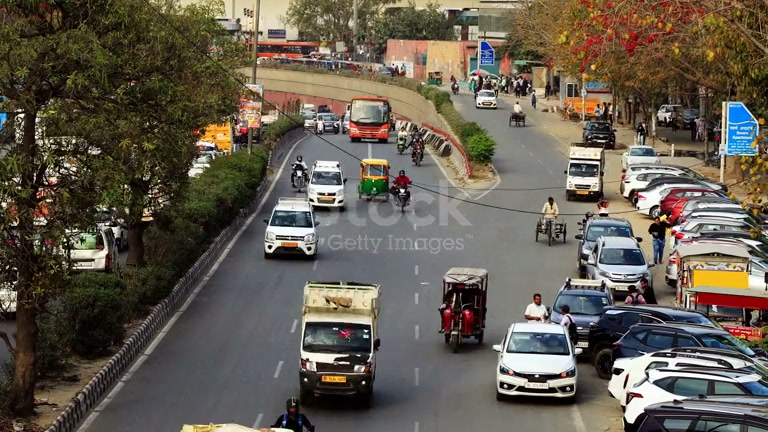car: (601, 326, 767, 395), (586, 305, 735, 378), (614, 363, 768, 429), (610, 357, 768, 411), (599, 323, 757, 377), (492, 321, 579, 403), (630, 399, 767, 430), (550, 284, 616, 346), (575, 218, 638, 277), (263, 197, 320, 259), (584, 236, 651, 288), (633, 181, 727, 215), (621, 166, 693, 204), (347, 95, 393, 143), (66, 229, 115, 273), (306, 161, 346, 209), (315, 110, 341, 134), (475, 90, 497, 109)
motorcycle: (536, 214, 567, 245), (390, 185, 413, 214), (290, 159, 309, 192), (397, 130, 412, 154)
pedestrian: (270, 398, 315, 431), (556, 304, 579, 345), (648, 218, 667, 266), (390, 169, 413, 208), (524, 292, 550, 322), (539, 195, 560, 228), (540, 195, 559, 221)
truck: (298, 280, 383, 407), (438, 266, 489, 351), (565, 142, 605, 201), (346, 95, 393, 143), (358, 157, 392, 200)
